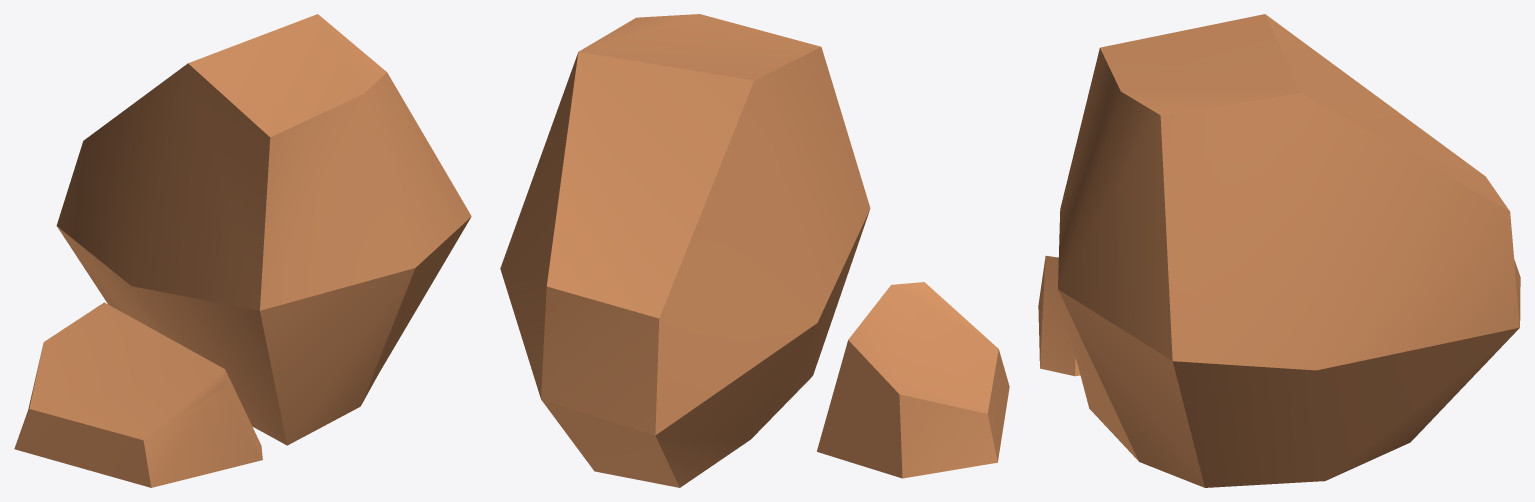
Rendered from rockbig1.fbx.
3 views of the same model, side by side, from view 1: azimuth 30°, elevation 25°; view 2: azimuth 150°, elevation 25°; view 3: azimuth 270°, elevation 25° (orthographic). The views are drawn at different scales.
Parts seen in each view (by area): view 1: rockbig1; view 2: rockbig1; view 3: rockbig1.
Part boxes in pixels (x1,y1,x2,y2): rockbig1: (14, 14, 471, 487); rockbig1: (500, 14, 1009, 487); rockbig1: (1038, 14, 1520, 487).
Bounding box in the file's own units: 189 × 137 × 156.
